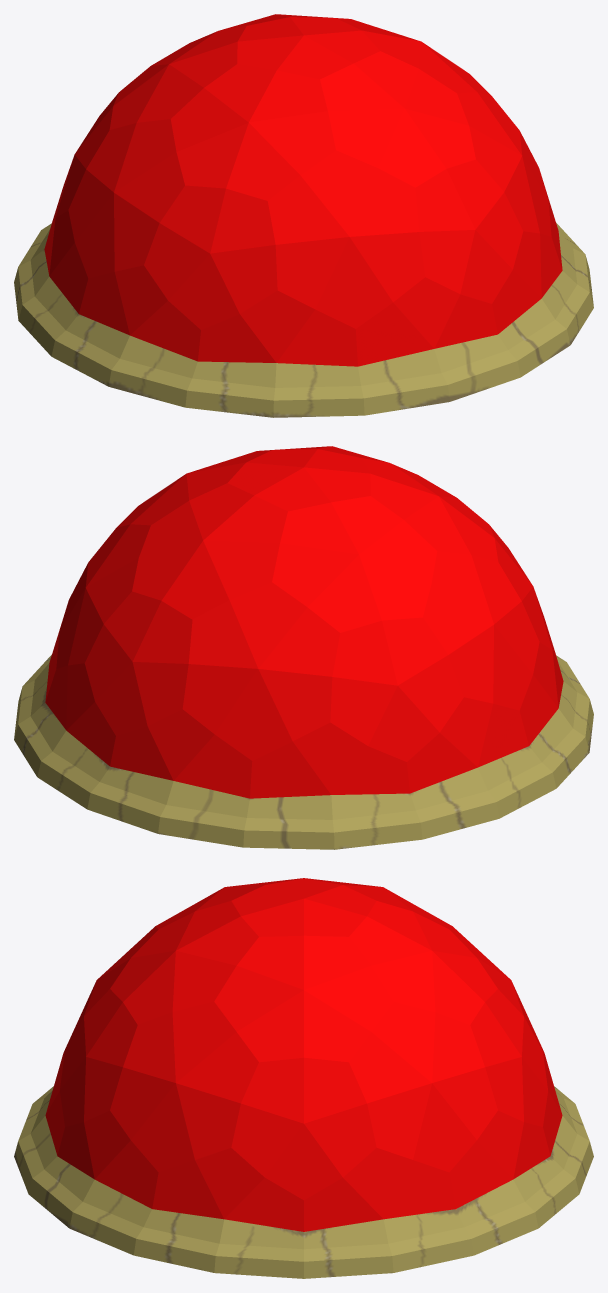
The model's file is Door_Schalter_An.fbx.
3 renders of one model, top to bottom at view 1: azimuth 30°, elevation 25°; view 2: azimuth 150°, elevation 25°; view 3: azimuth 270°, elevation 25°, orthographic.
Parts seen in each view (by area): view 1: Icosphere; view 2: Icosphere; view 3: Icosphere.
Boxes of the visible parts, x1,y1,x2,y2 form: Icosphere: (14, 14, 593, 417); Icosphere: (14, 446, 593, 849); Icosphere: (14, 878, 593, 1278).
Bounding box in the file's own units: 1.07 × 0.5677 × 1.08.
Materials: 1 (1 with a texture image).
